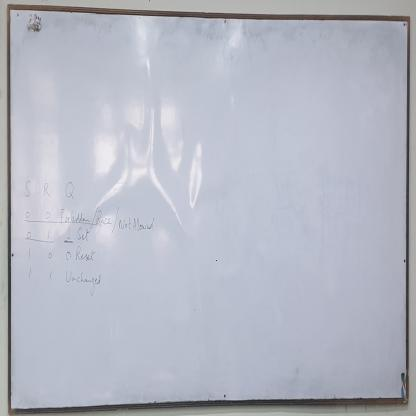Handwritten text: (20, 175, 76, 204), (63, 267, 102, 300), (118, 208, 156, 239), (57, 202, 90, 227), (95, 205, 114, 231), (74, 246, 97, 267), (75, 224, 91, 248)
Whiteboard: (6, 1, 412, 416)
